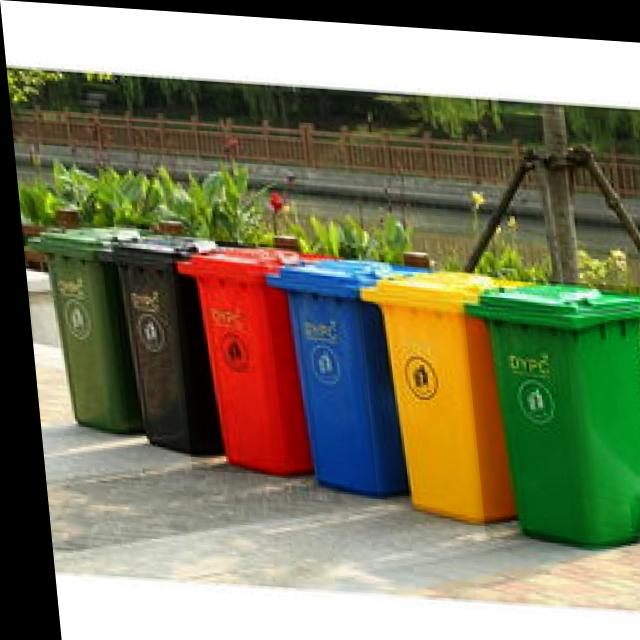garbage_bin: (350, 258, 552, 519), (456, 269, 640, 541), (257, 248, 445, 496), (165, 236, 356, 477), (105, 228, 252, 453), (19, 218, 153, 433)
